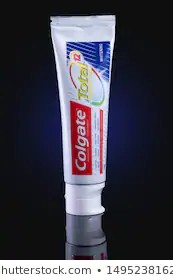colgate-total-150gm: (56, 12, 117, 219)
